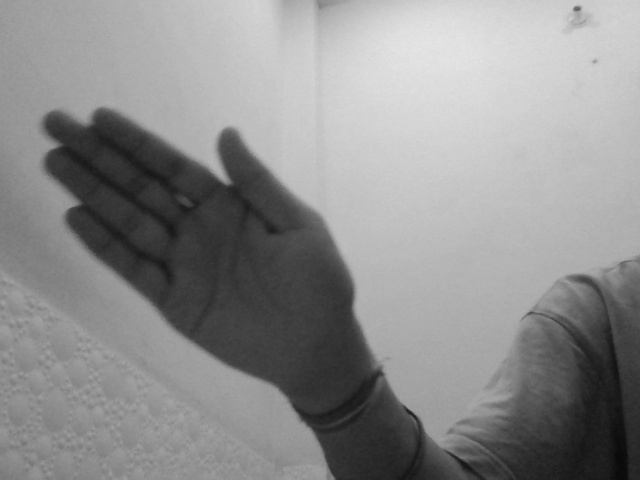Hello: (34, 104, 362, 400)
